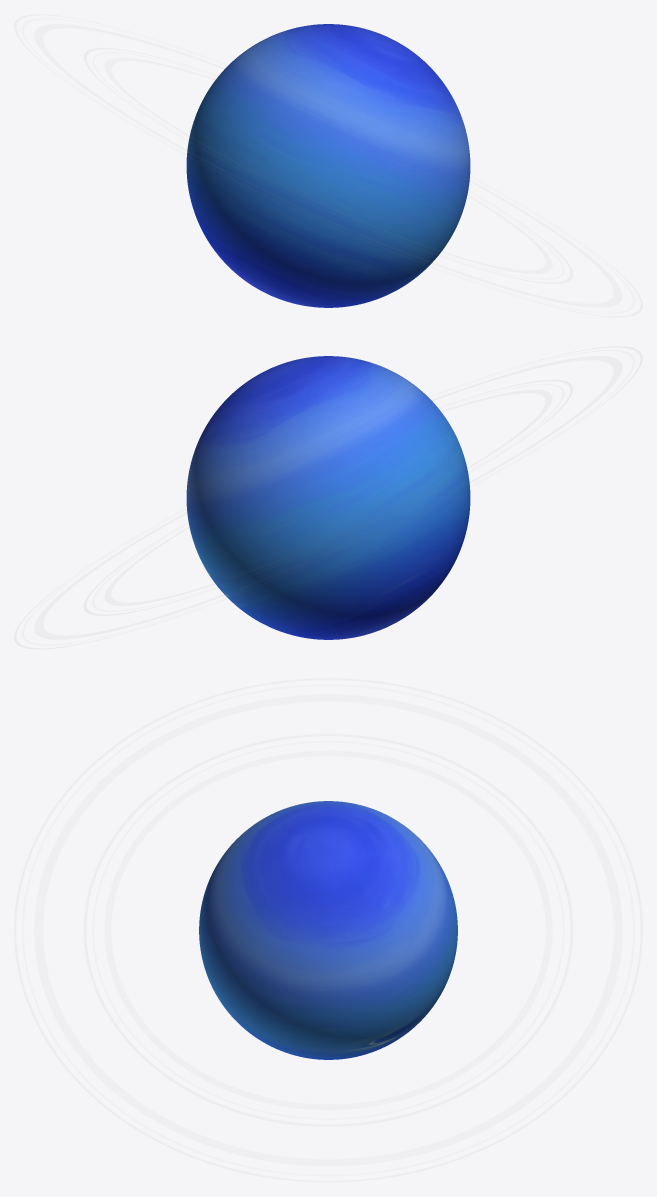
The model's file is neptune.glb.
3 views of the same model, one above another, from view 1: azimuth 30°, elevation 25°; view 2: azimuth 150°, elevation 25°; view 3: azimuth 270°, elevation 25° (orthographic). The views are drawn at different scales.
Parts seen in each view (by area): view 1: neptune1_A; view 2: neptune1_A; view 3: neptune1_A.
Part boxes in pixels (x1,y1,x2,y2): neptune1_A: (186, 24, 470, 307); neptune1_A: (186, 356, 470, 639); neptune1_A: (199, 801, 457, 1059).
Size of the model in its own units: 1039 by 561 by 1180.
2 materials, 2 textured.
